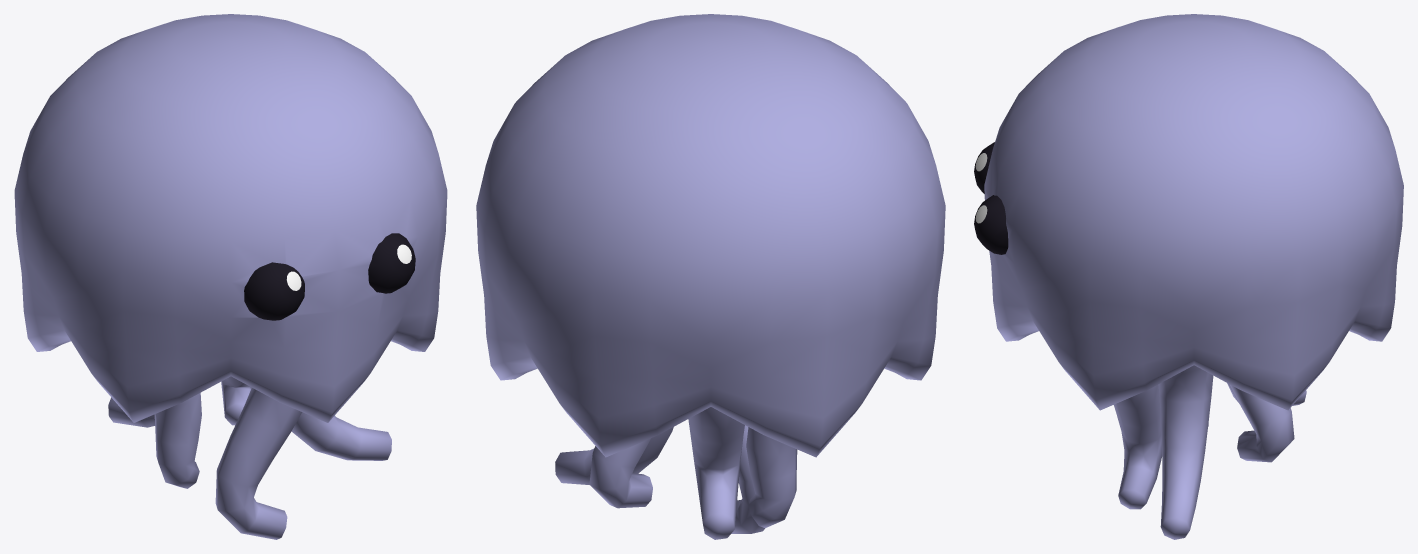
The model's file is Ghostly_Fish.glb.
The picture shows the model from 3 angles, left to right: view 1: azimuth 30°, elevation 25°; view 2: azimuth 150°, elevation 25°; view 3: azimuth 270°, elevation 25°; orthographic projection. The views are drawn at different scales.
Parts seen in each view (by area): view 1: Ghostly_Fish; view 2: Ghostly_Fish; view 3: Ghostly_Fish.
Part boxes in pixels (box(x1,y1,x2,y2)): Ghostly_Fish: box(14, 14, 447, 539); Ghostly_Fish: box(476, 14, 945, 539); Ghostly_Fish: box(974, 14, 1403, 539).
Bounding box in the file's own units: 0.74 × 0.8986 × 0.758.
